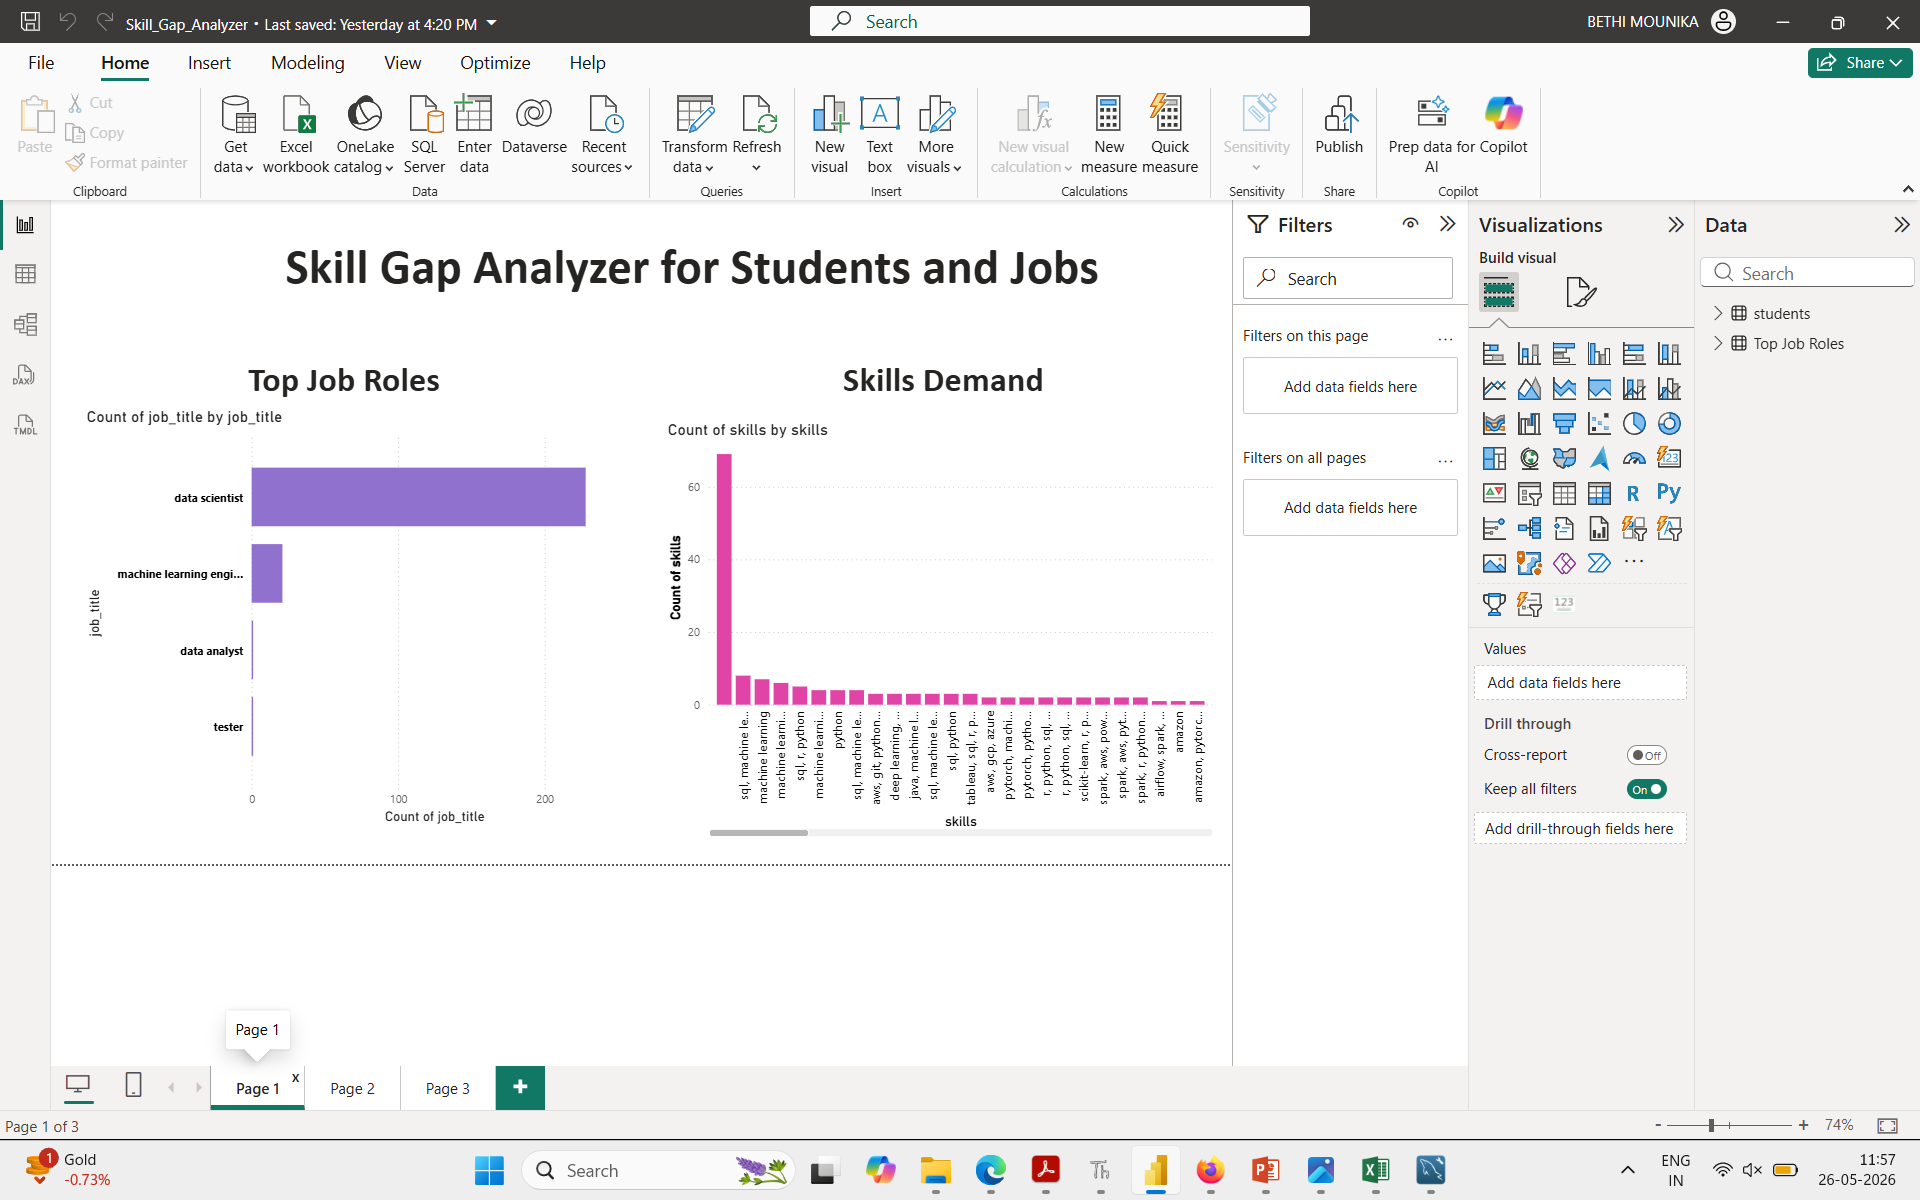

The dashboard page shown, as its layout file describes it:
{"tool":"powerbi","page":{"name":"Page 1","canvas":[1280,720],"ordinal":0},"visuals":[{"type":"clusteredBarChart","fields":{"Category":["job.job_title"],"Y":["CountNonNull(job.job_title)"]},"box":[33.8,225.4,595.8,456.3],"z":0},{"type":"columnChart","fields":{"Category":["Top Job Roles.skills"],"Y":["CountNonNull(Top Job Roles.skills)"]},"box":[663.8,238.4,600.2,456.6],"z":1000},{"type":"textbox","box":[143.6,35.2,1102.8,78.6],"z":2000},{"type":"textbox","box":[6.8,166.6,621.8,59.6],"z":3000},{"type":"textbox","box":[697.7,166.6,539.2,59.6],"z":4000}]}

Visuals, with their boxes on the page's 1280x720 design canvas (x1, y1, x2, y2). These are canvas units, not pixel positions in the 1920x1200 screenshot, which may show the page scaled, cropped or inside an application window:
clusteredBarChart - job.job_title x CountNonNull(job.job_title): l=34, t=225, r=630, b=682
columnChart - Top Job Roles.skills x CountNonNull(Top Job Roles.skills): l=664, t=238, r=1264, b=695
textbox: l=144, t=35, r=1246, b=114
textbox: l=7, t=167, r=629, b=226
textbox: l=698, t=167, r=1237, b=226
